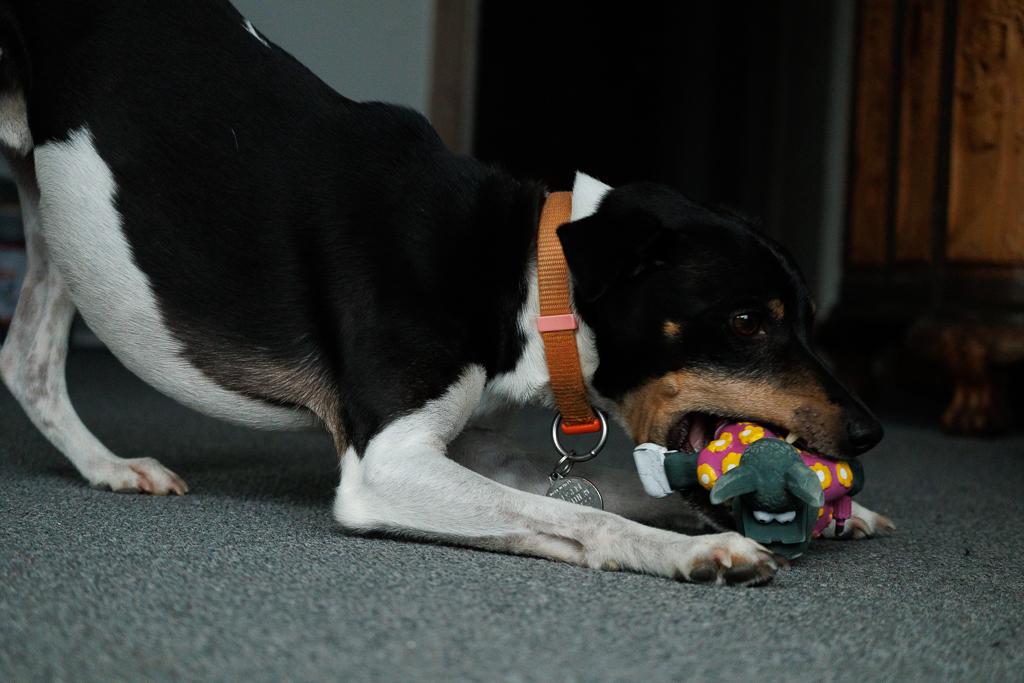Dog: (0, 0, 905, 595)
Humanoid: (622, 388, 877, 572)
